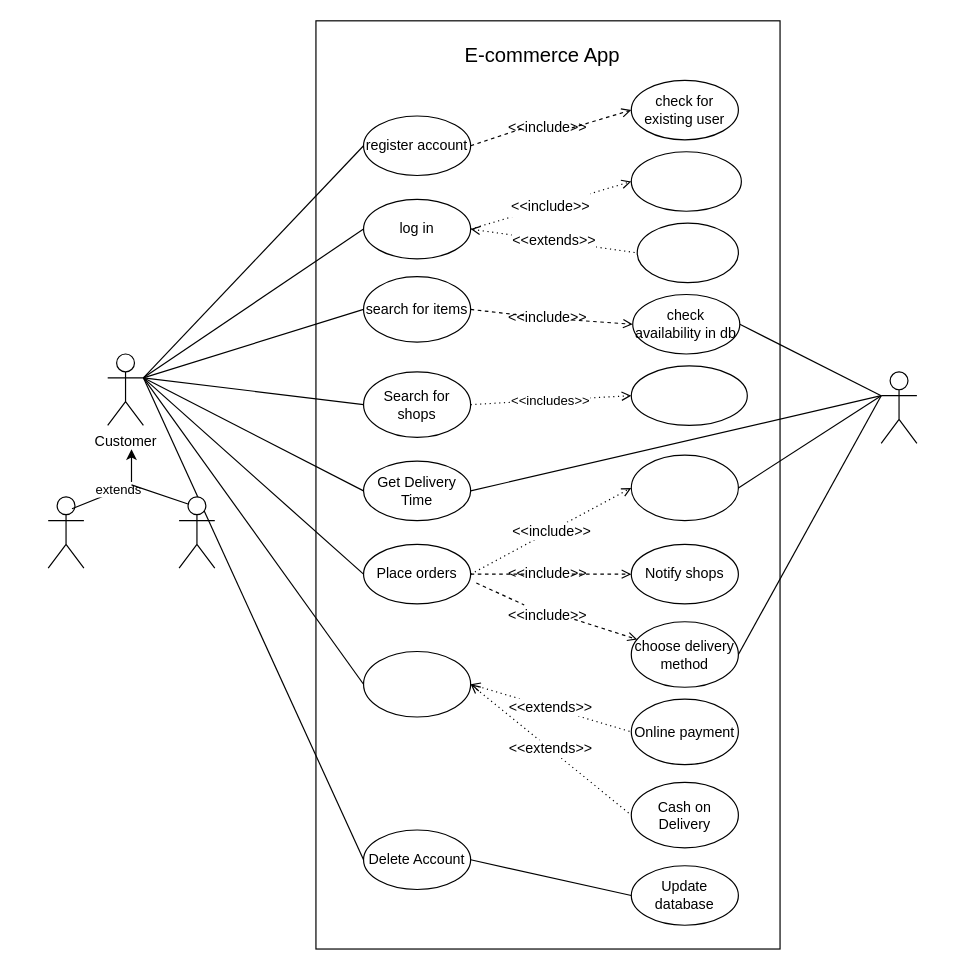
This 958x970 diagram has some shape labels left out. The shapes that lost their labels are listed below. From the top down, each one's centre as x and y in pixels, then its label:
At (685,181): "Verify password".
At (687,252): "Display Error Message".
At (688,395): "check for shop in db".
At (898,407): "Shopkeeper".
At (684,487): "Update Items in db".
At (65,532): "New customer".
At (196,532): "Existing customer".
At (416,683): "Make payment".
